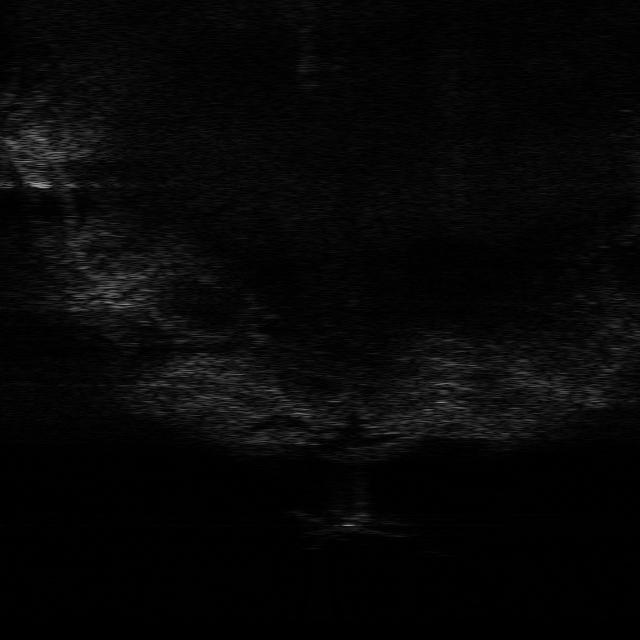plane: (289, 504, 409, 540)
